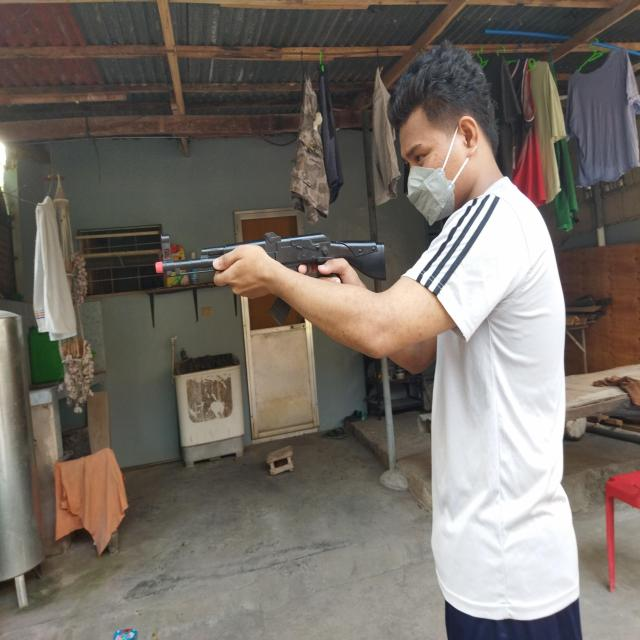rifle: (154, 232, 387, 324)
